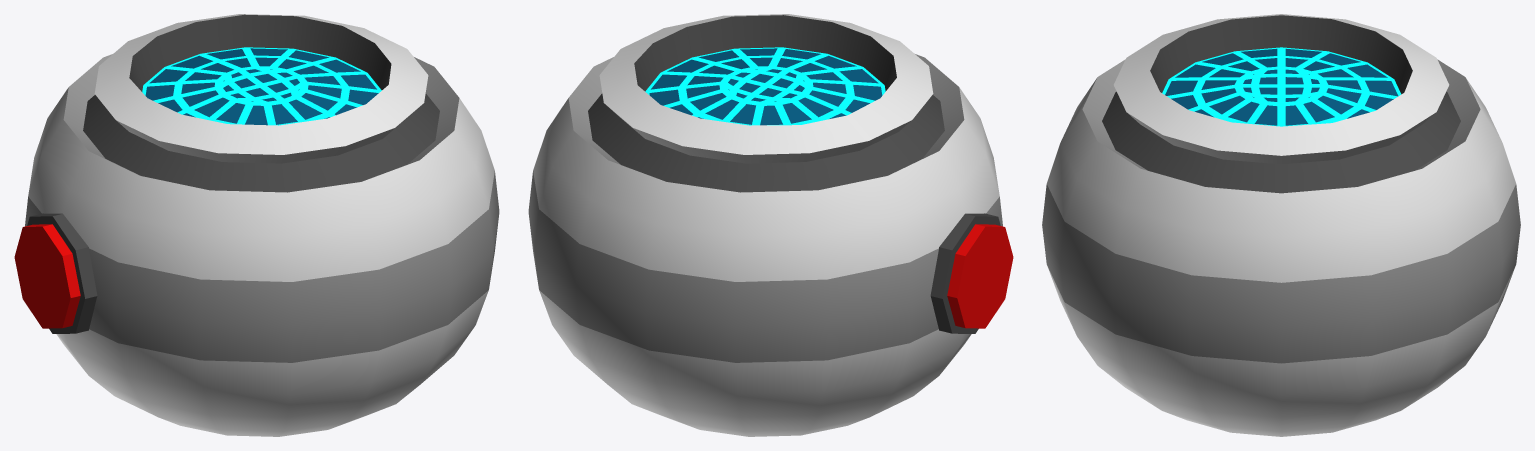
The model's file is Holographic_sphere.fbx.
The picture shows the model from 3 angles, left to right: view 1: azimuth 30°, elevation 25°; view 2: azimuth 150°, elevation 25°; view 3: azimuth 270°, elevation 25°; orthographic projection.
Parts seen in each view (by area): view 1: Sphere.004; view 2: Sphere.004; view 3: Sphere.004.
Boxes of the visible parts, x1=… form: Sphere.004: x1=14, y1=14, x2=499, y2=436; Sphere.004: x1=528, y1=14, x2=1013, y2=436; Sphere.004: x1=1042, y1=14, x2=1520, y2=436.
Size of the model in its own units: 41.07 by 31.38 by 40.
